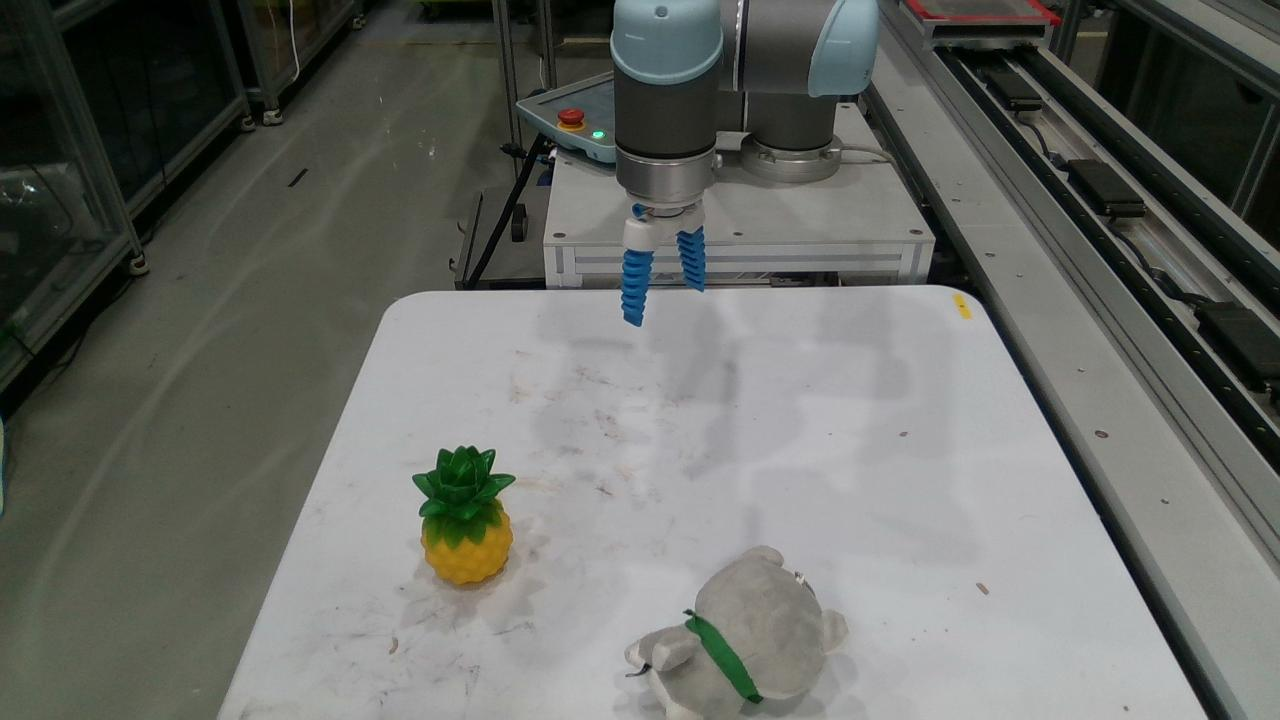UR5: (608, 0, 880, 251)
gripper_left: (622, 249, 656, 327)
gripper_right: (676, 225, 706, 293)
target: (623, 545, 849, 719), (409, 444, 516, 584)
